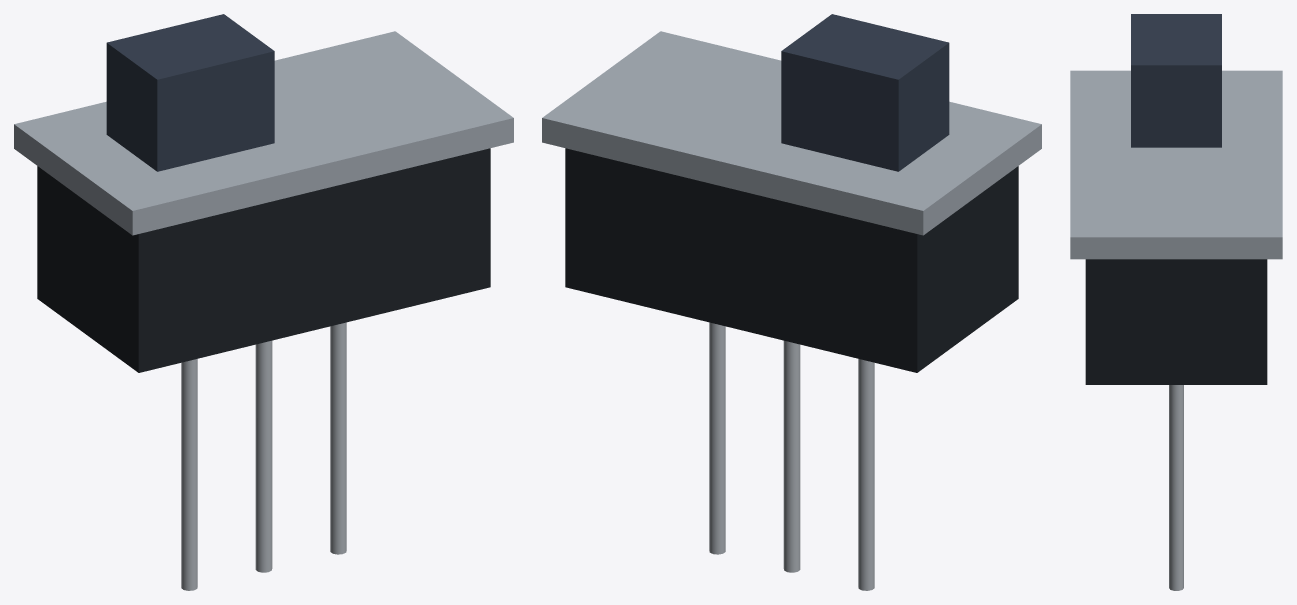
File: slide-switch-spdt.glb
3 renders of one model, left to right at view 1: azimuth 30°, elevation 25°; view 2: azimuth 150°, elevation 25°; view 3: azimuth 270°, elevation 25°, orthographic. The views are drawn at different scales.
Visible parts, largest first — view 1: switch_body, switch_plate, switch_slider, switch_lead_2, switch_lead_1, switch_lead_3; view 2: switch_body, switch_plate, switch_slider, switch_lead_2, switch_lead_1, switch_lead_3; view 3: switch_plate, switch_body, switch_slider, switch_lead_3.
Part boxes in pixels (x1,y1,x2,y2): switch_body: (37, 148, 490, 372); switch_plate: (14, 31, 513, 235); switch_slider: (106, 14, 274, 171); switch_lead_2: (255, 340, 272, 572); switch_lead_1: (181, 359, 197, 590); switch_lead_3: (330, 322, 346, 554); switch_body: (565, 148, 1018, 372); switch_plate: (542, 31, 1041, 235); switch_slider: (781, 14, 949, 171); switch_lead_2: (783, 340, 800, 572); switch_lead_1: (858, 359, 874, 590); switch_lead_3: (709, 322, 725, 554); switch_plate: (1070, 70, 1282, 259); switch_body: (1085, 259, 1267, 384); switch_slider: (1131, 14, 1221, 147); switch_lead_3: (1169, 385, 1183, 590).
Bounding box in the file's own units: 0.013 × 0.0176 × 0.007.
